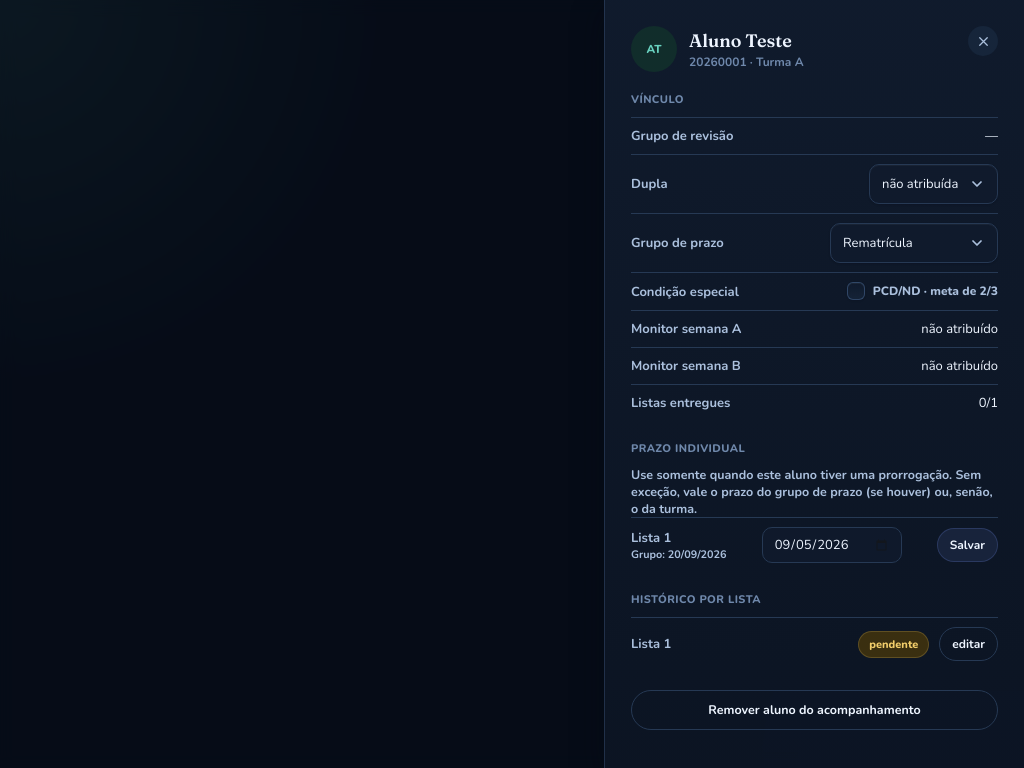
Test: AlunoDrawer — precedência de prazo efetivo › oferece 'Usar grupo' (não 'Usar turma') ao limpar uma exceção individual quando o grupo tem prazo para a lista
Clear the date field at {"x": 832, "y": 545}, box [762,527,902,563]
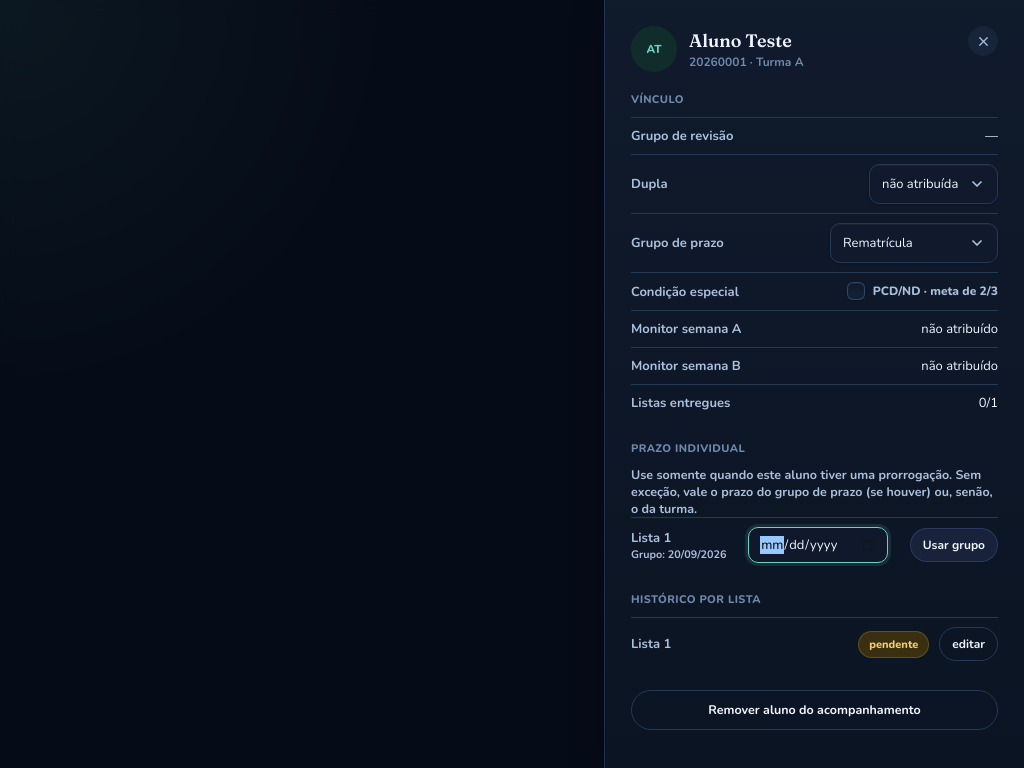
Expected: the button "Usar grupo" is shown, [910,528,998,562]
